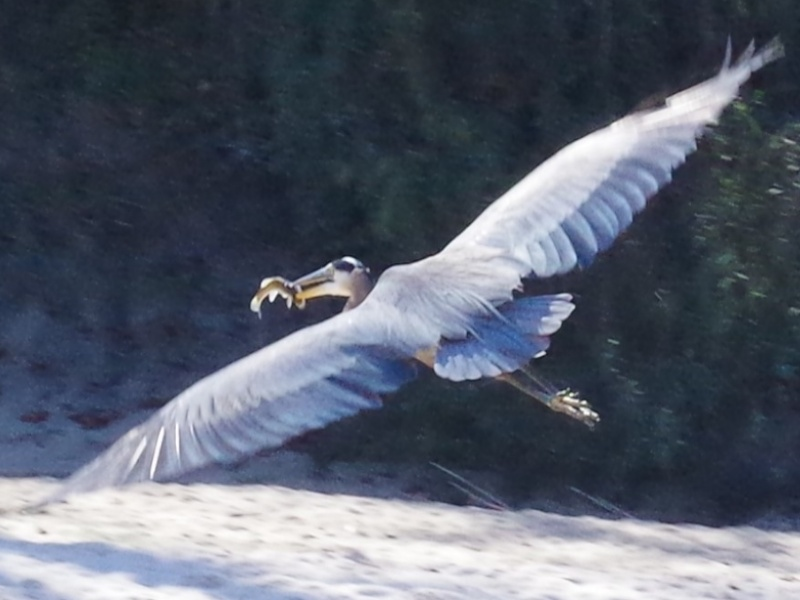heron: (31, 39, 784, 511)
